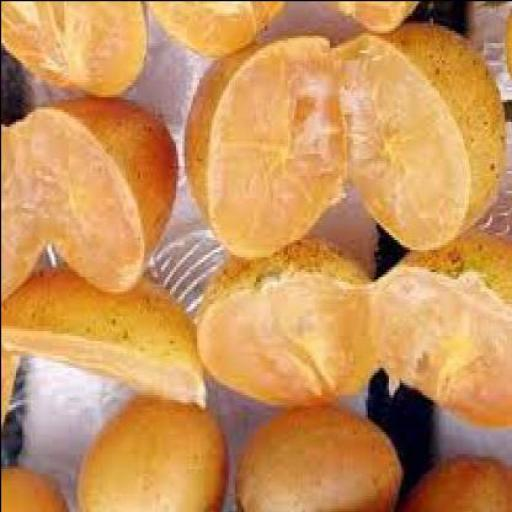biodegradable: (336, 17, 502, 256), (179, 34, 345, 261), (15, 98, 175, 293), (194, 246, 368, 414), (366, 241, 510, 431), (2, 273, 200, 409), (236, 411, 404, 511), (78, 401, 226, 511), (2, 2, 146, 98), (144, 3, 282, 59), (0, 128, 41, 300), (394, 458, 511, 511), (324, 2, 418, 37), (2, 465, 72, 511), (504, 2, 510, 82)
